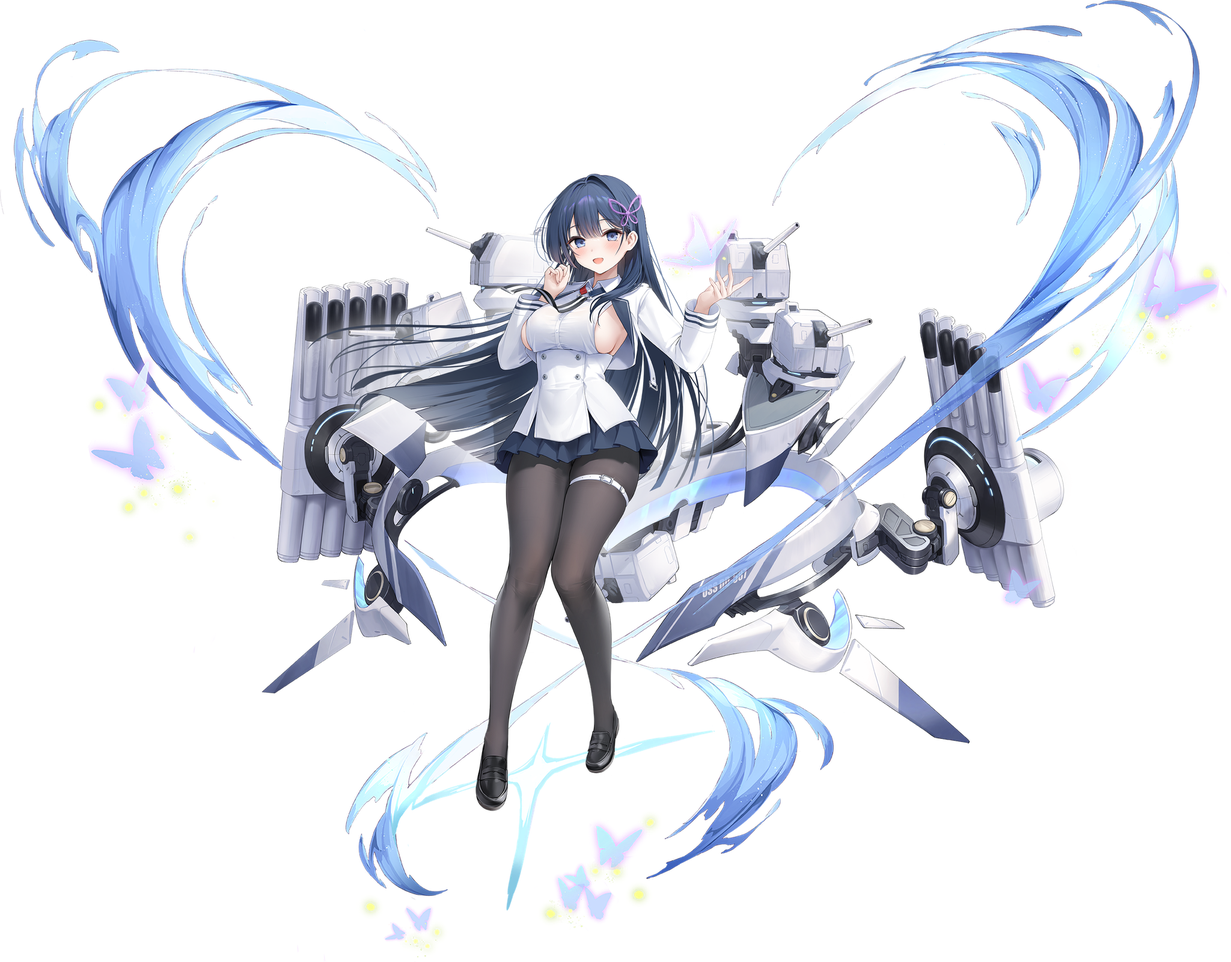person: (335, 149, 736, 872)
